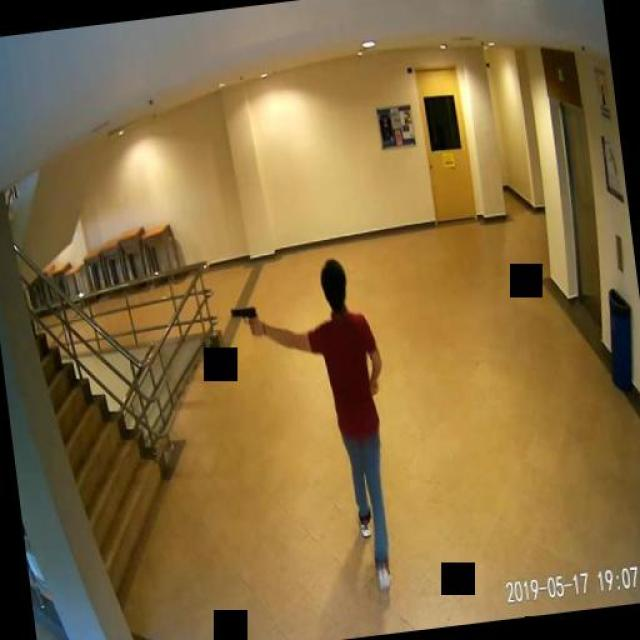gun: (228, 302, 258, 338)
